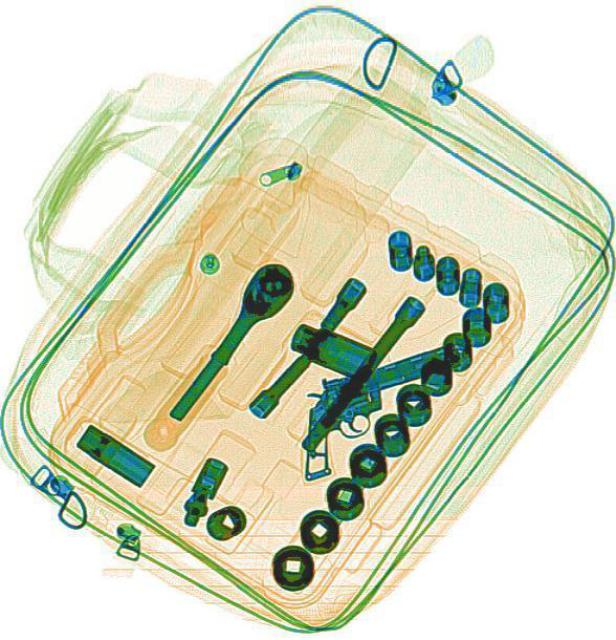Gun: (276, 340, 483, 480)
